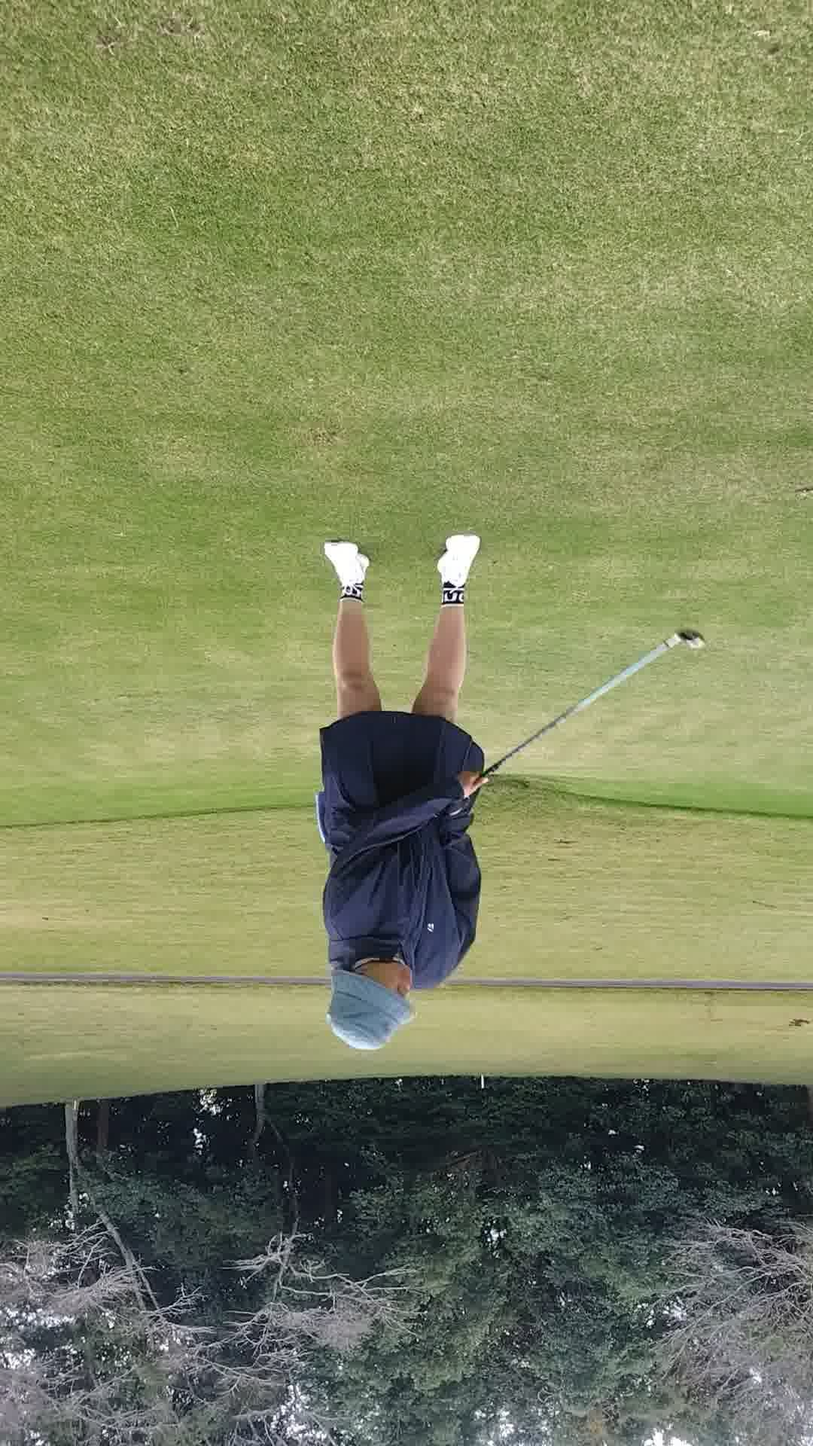clubhead: (613, 515, 770, 708)
